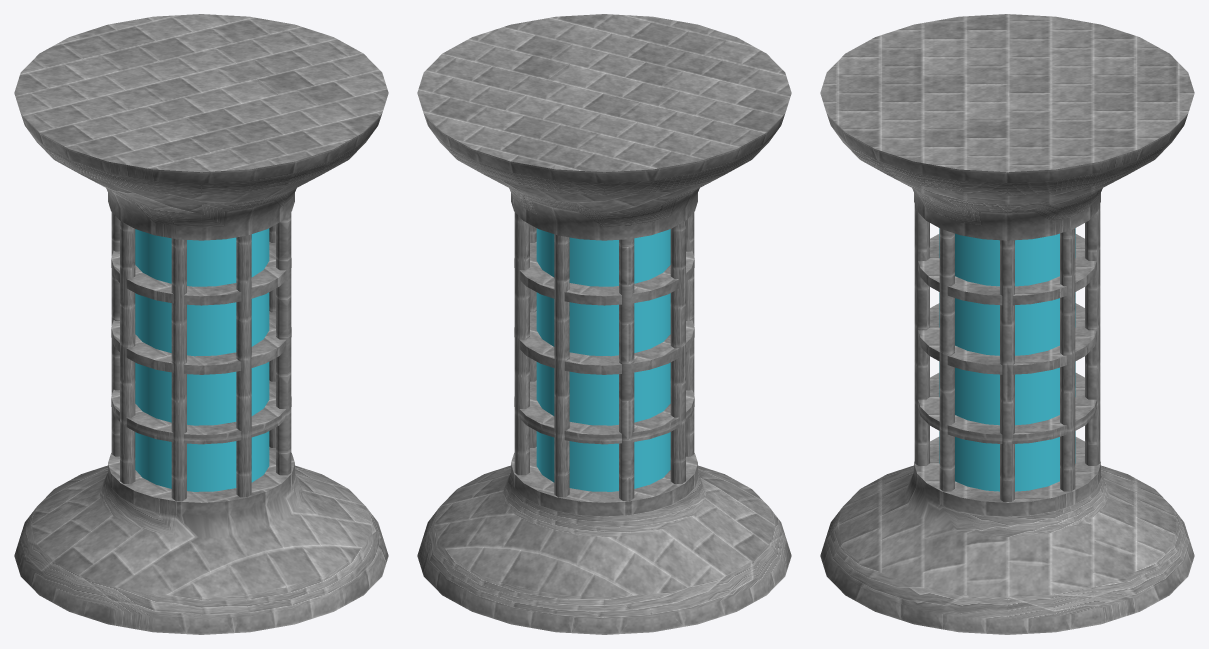
Rendered from core.obj.
3 renders of one model, left to right at view 1: azimuth 30°, elevation 25°; view 2: azimuth 150°, elevation 25°; view 3: azimuth 270°, elevation 25°, orthographic.
Bounding box in the file's own units: 4.4 × 6 × 4.4.
3 materials, 2 textured.
